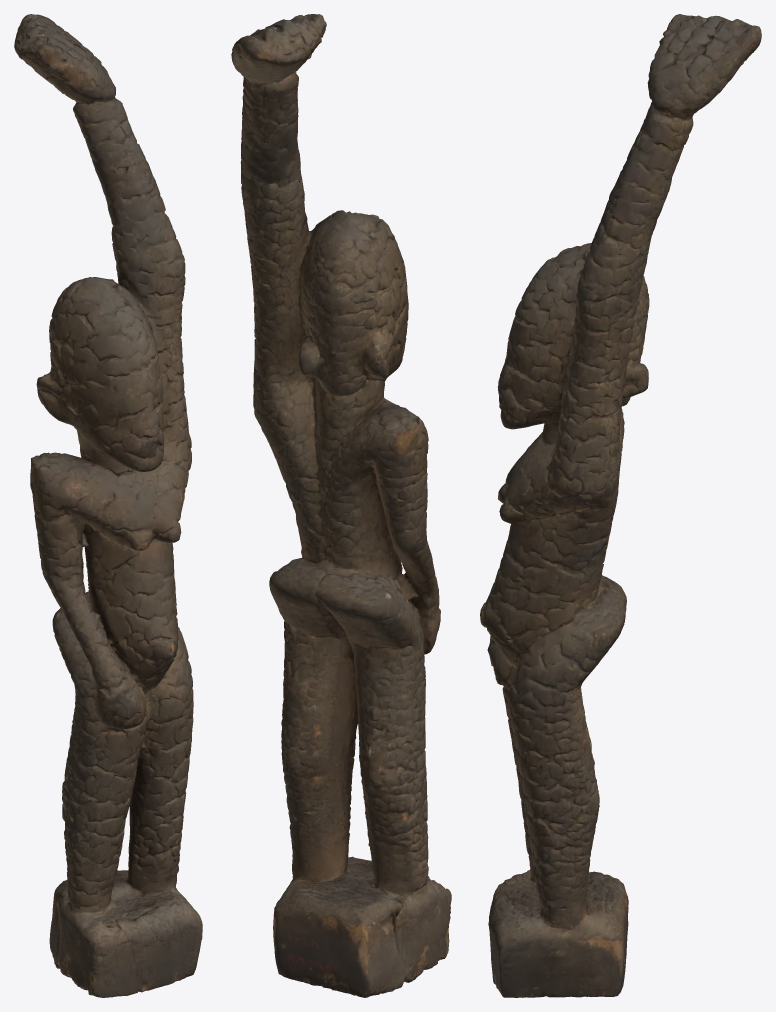
File: preview.glb
3 renders of one model, left to right at view 1: azimuth 30°, elevation 25°; view 2: azimuth 150°, elevation 25°; view 3: azimuth 270°, elevation 25°, orthographic. The views are drawn at different scales.
Parts seen in each view (by area): view 1: ADVIMG_1979_206_64_FemaleFigure_High_7M_n3d; view 2: ADVIMG_1979_206_64_FemaleFigure_High_7M_n3d; view 3: ADVIMG_1979_206_64_FemaleFigure_High_7M_n3d.
Boxes of the visible parts, x1,y1,x2,y2 form: ADVIMG_1979_206_64_FemaleFigure_High_7M_n3d: [14, 14, 202, 997]; ADVIMG_1979_206_64_FemaleFigure_High_7M_n3d: [231, 14, 451, 997]; ADVIMG_1979_206_64_FemaleFigure_High_7M_n3d: [480, 14, 761, 997].
Bounding box in the file's own units: 0.0823 × 0.4633 × 0.1241.
1 material, 1 textured.
